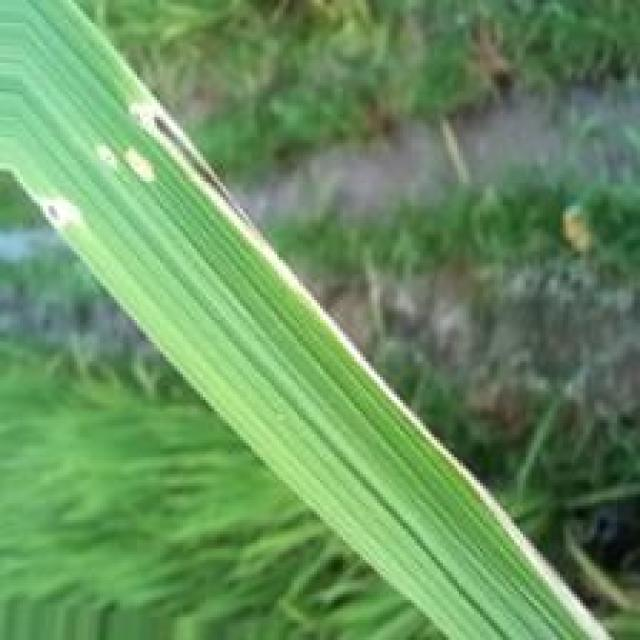Rice_Hispa: (128, 98, 621, 640)
